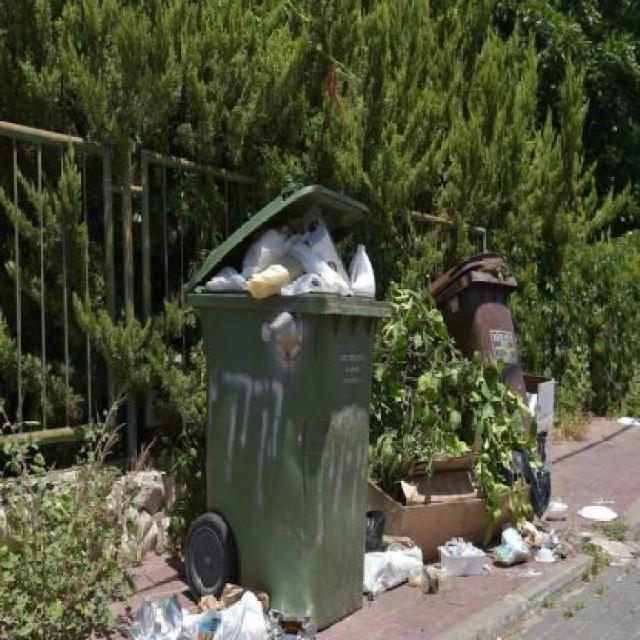garbage: (331, 506, 574, 583), (240, 217, 376, 294), (137, 586, 283, 640)
